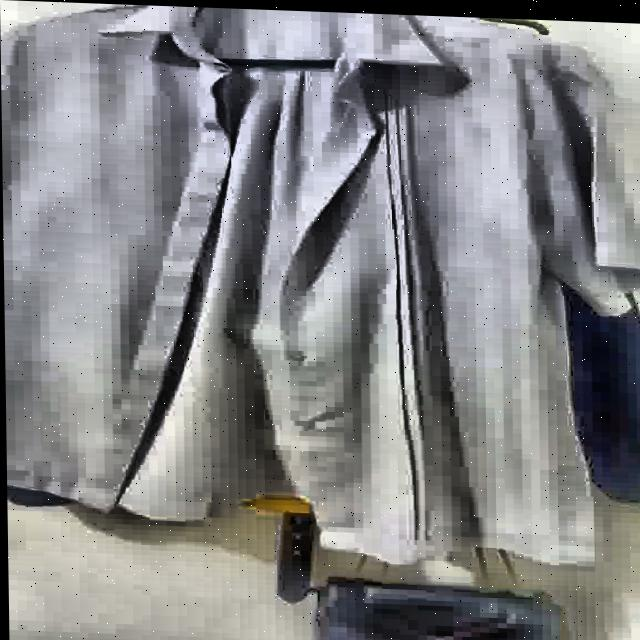clothes: (8, 0, 640, 581)
